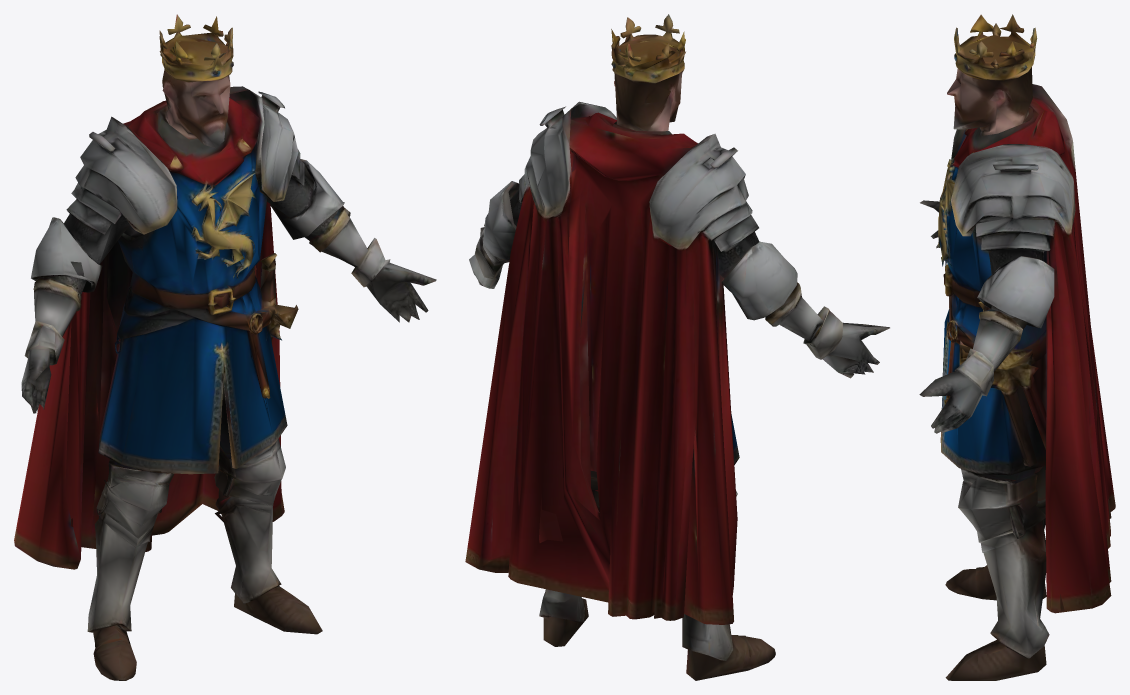
Rendered from hum_h1_lo.glb.
3 views of the same model, side by side, from view 1: azimuth 30°, elevation 25°; view 2: azimuth 150°, elevation 25°; view 3: azimuth 270°, elevation 25° (orthographic).
Visible parts, largest first — view 1: node_0; view 2: node_0; view 3: node_0.
Part boxes in pixels (x1=…): node_0: x1=14, y1=14, x2=436, y2=680; node_0: x1=465, y1=14, x2=889, y2=680; node_0: x1=919, y1=14, x2=1115, y2=680.
Size of the model in its own units: 0.7744 by 1.11 by 0.3272.
1 material, 1 textured.
